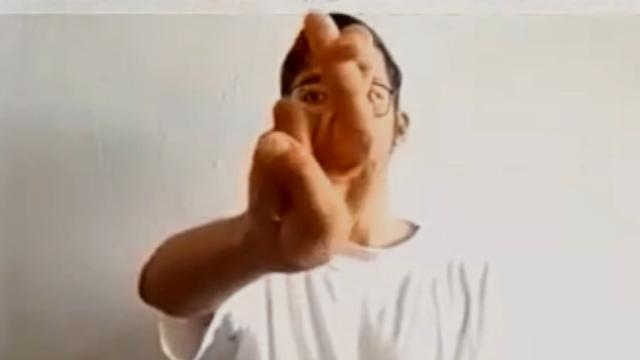R: (238, 3, 386, 285)
